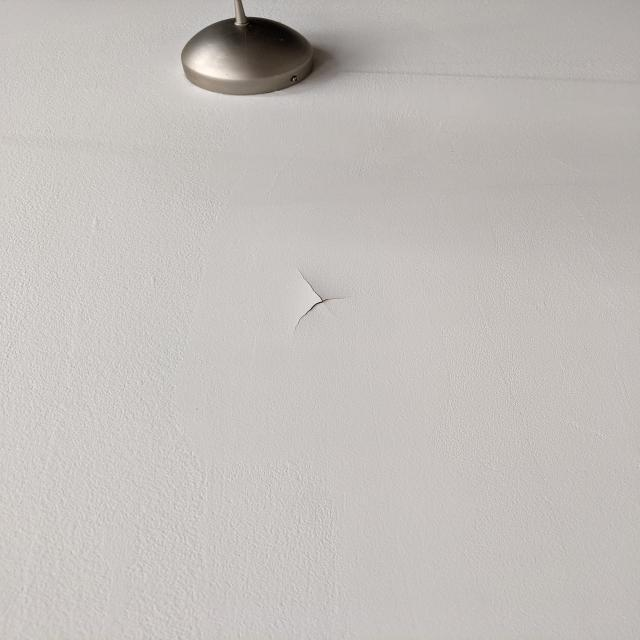Crack: (286, 264, 354, 334)
